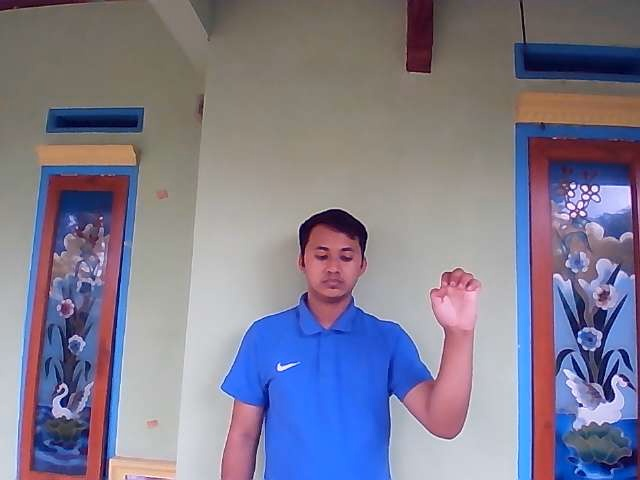E: (429, 267, 481, 332)
